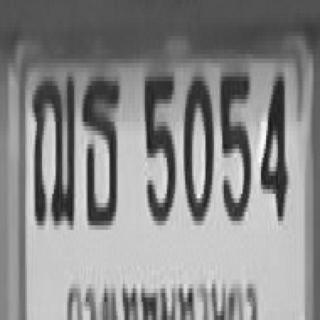A12: (32, 72, 74, 225)
A24: (81, 72, 118, 225)
N00: (182, 72, 212, 221)
N04: (259, 68, 286, 216)
N05: (219, 65, 249, 219), (143, 72, 173, 221)
